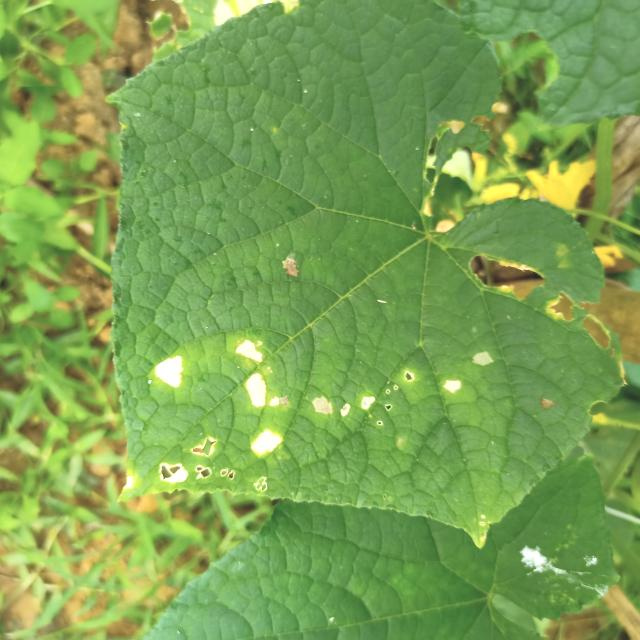disease_cucumber: (118, 315, 294, 496), (307, 336, 499, 462)
